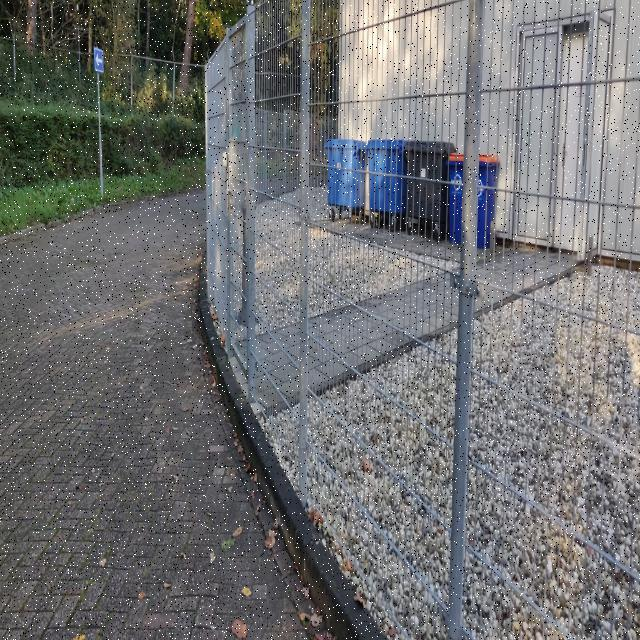fence line: (180, 7, 640, 639)
